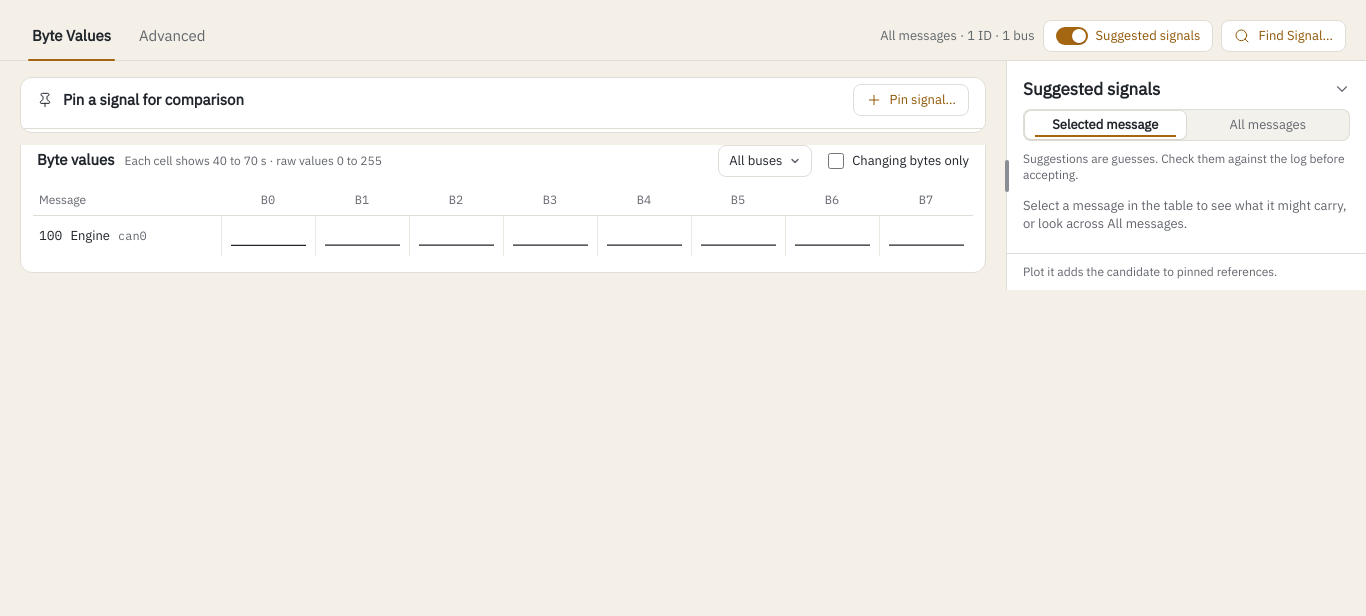
Pinned references › stay on top, outside the scroller, in Byte Values and in Advanced
(page scrolled)
Click the button "100 Engine can0" at coordinates (127, 236), box [39,221,215,251]
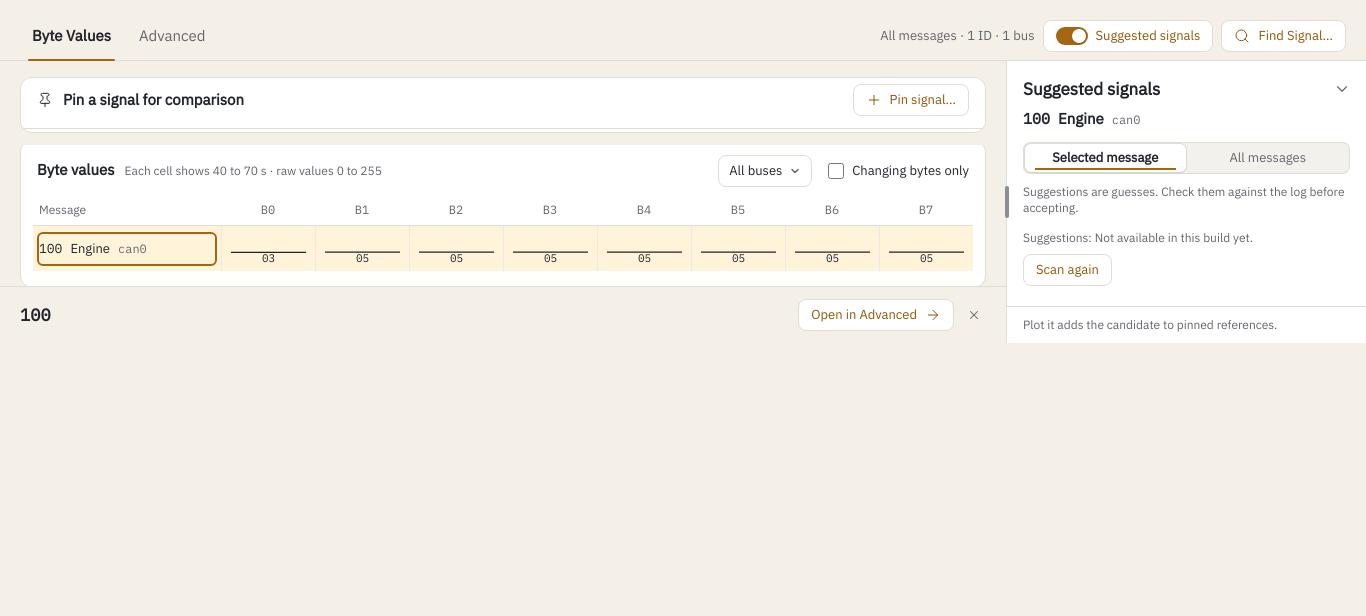
Click the tab "Advanced" at coordinates (172, 36), box [127,12,218,60]
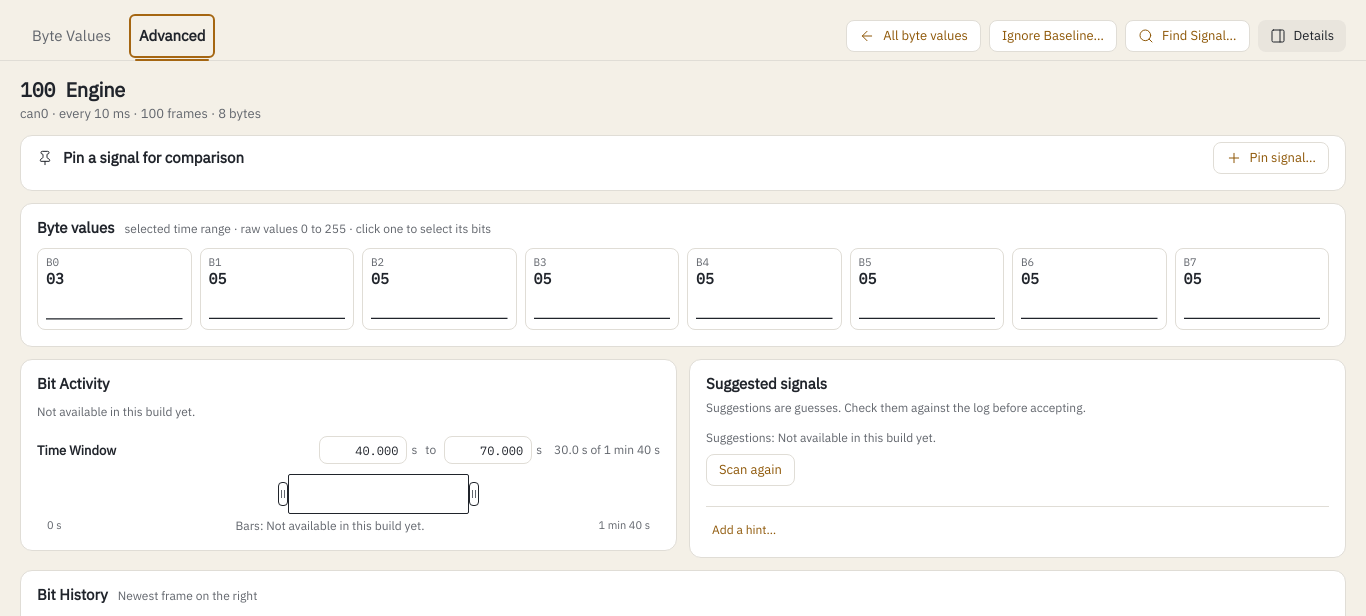
Check: the text "pinned references" is gone
